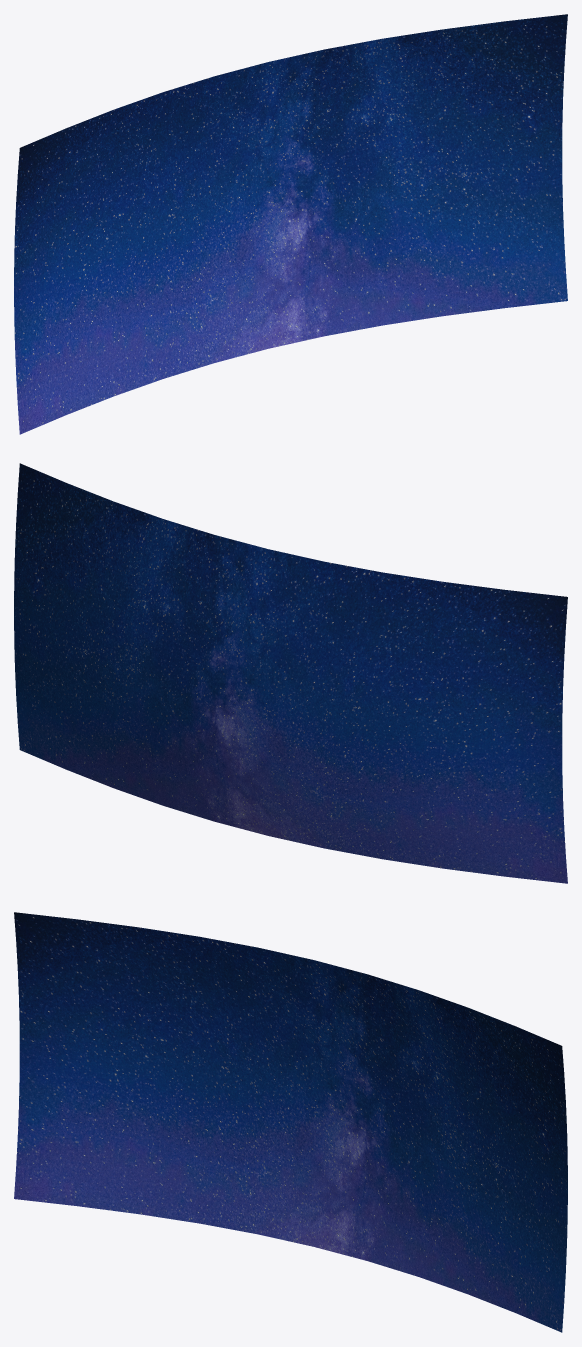
File: C_Estrellas.fbx
3 renders of one model, top to bottom at view 1: azimuth 30°, elevation 25°; view 2: azimuth 150°, elevation 25°; view 3: azimuth 330°, elevation 25°, orthographic.
Visible parts, largest first — view 1: pPlane1; view 2: pPlane1; view 3: pPlane1.
Part boxes in pixels (left/top/right/bottom): pPlane1: left=14, top=14, right=567, bottom=434; pPlane1: left=14, top=463, right=567, bottom=883; pPlane1: left=14, top=912, right=567, bottom=1332.
Bounding box in the file's own units: 400 × 200 × 42.49.
1 material, 1 textured.
